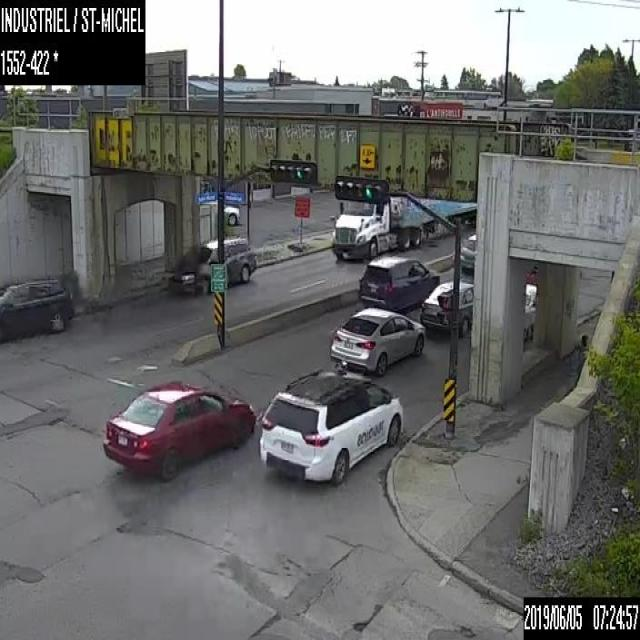construction: (286, 196, 309, 252)
vehicle: (259, 360, 401, 486), (102, 379, 254, 480), (331, 193, 476, 261), (329, 306, 424, 375), (166, 238, 255, 294), (0, 276, 71, 343), (358, 255, 439, 313), (420, 280, 473, 334), (459, 232, 476, 272), (223, 203, 239, 225)
